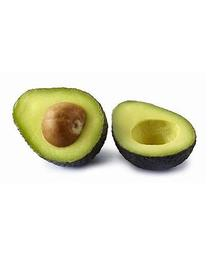avocado: (12, 86, 109, 169), (110, 100, 198, 171)
